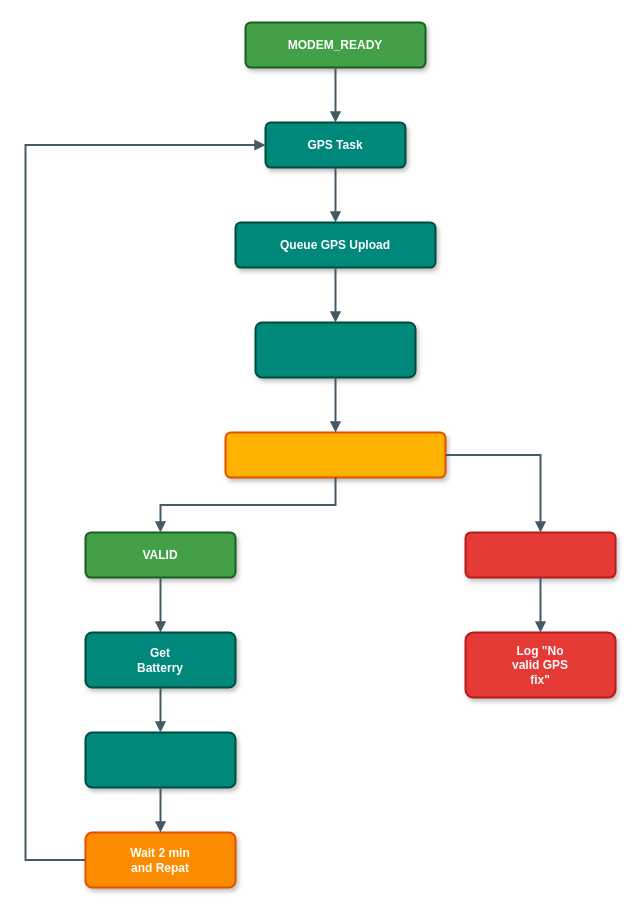
Some shapes in this 639 by 912 pixel diagram are drawn without their labels. The shapes that lost their labels are listed below. From the top down, each one's centre as x and y in pixels, then its label:
point 336,351: Communication Task
point 336,456: get_gps_coordinates()
point 541,556: INVALID
point 161,761: Log GPS location
